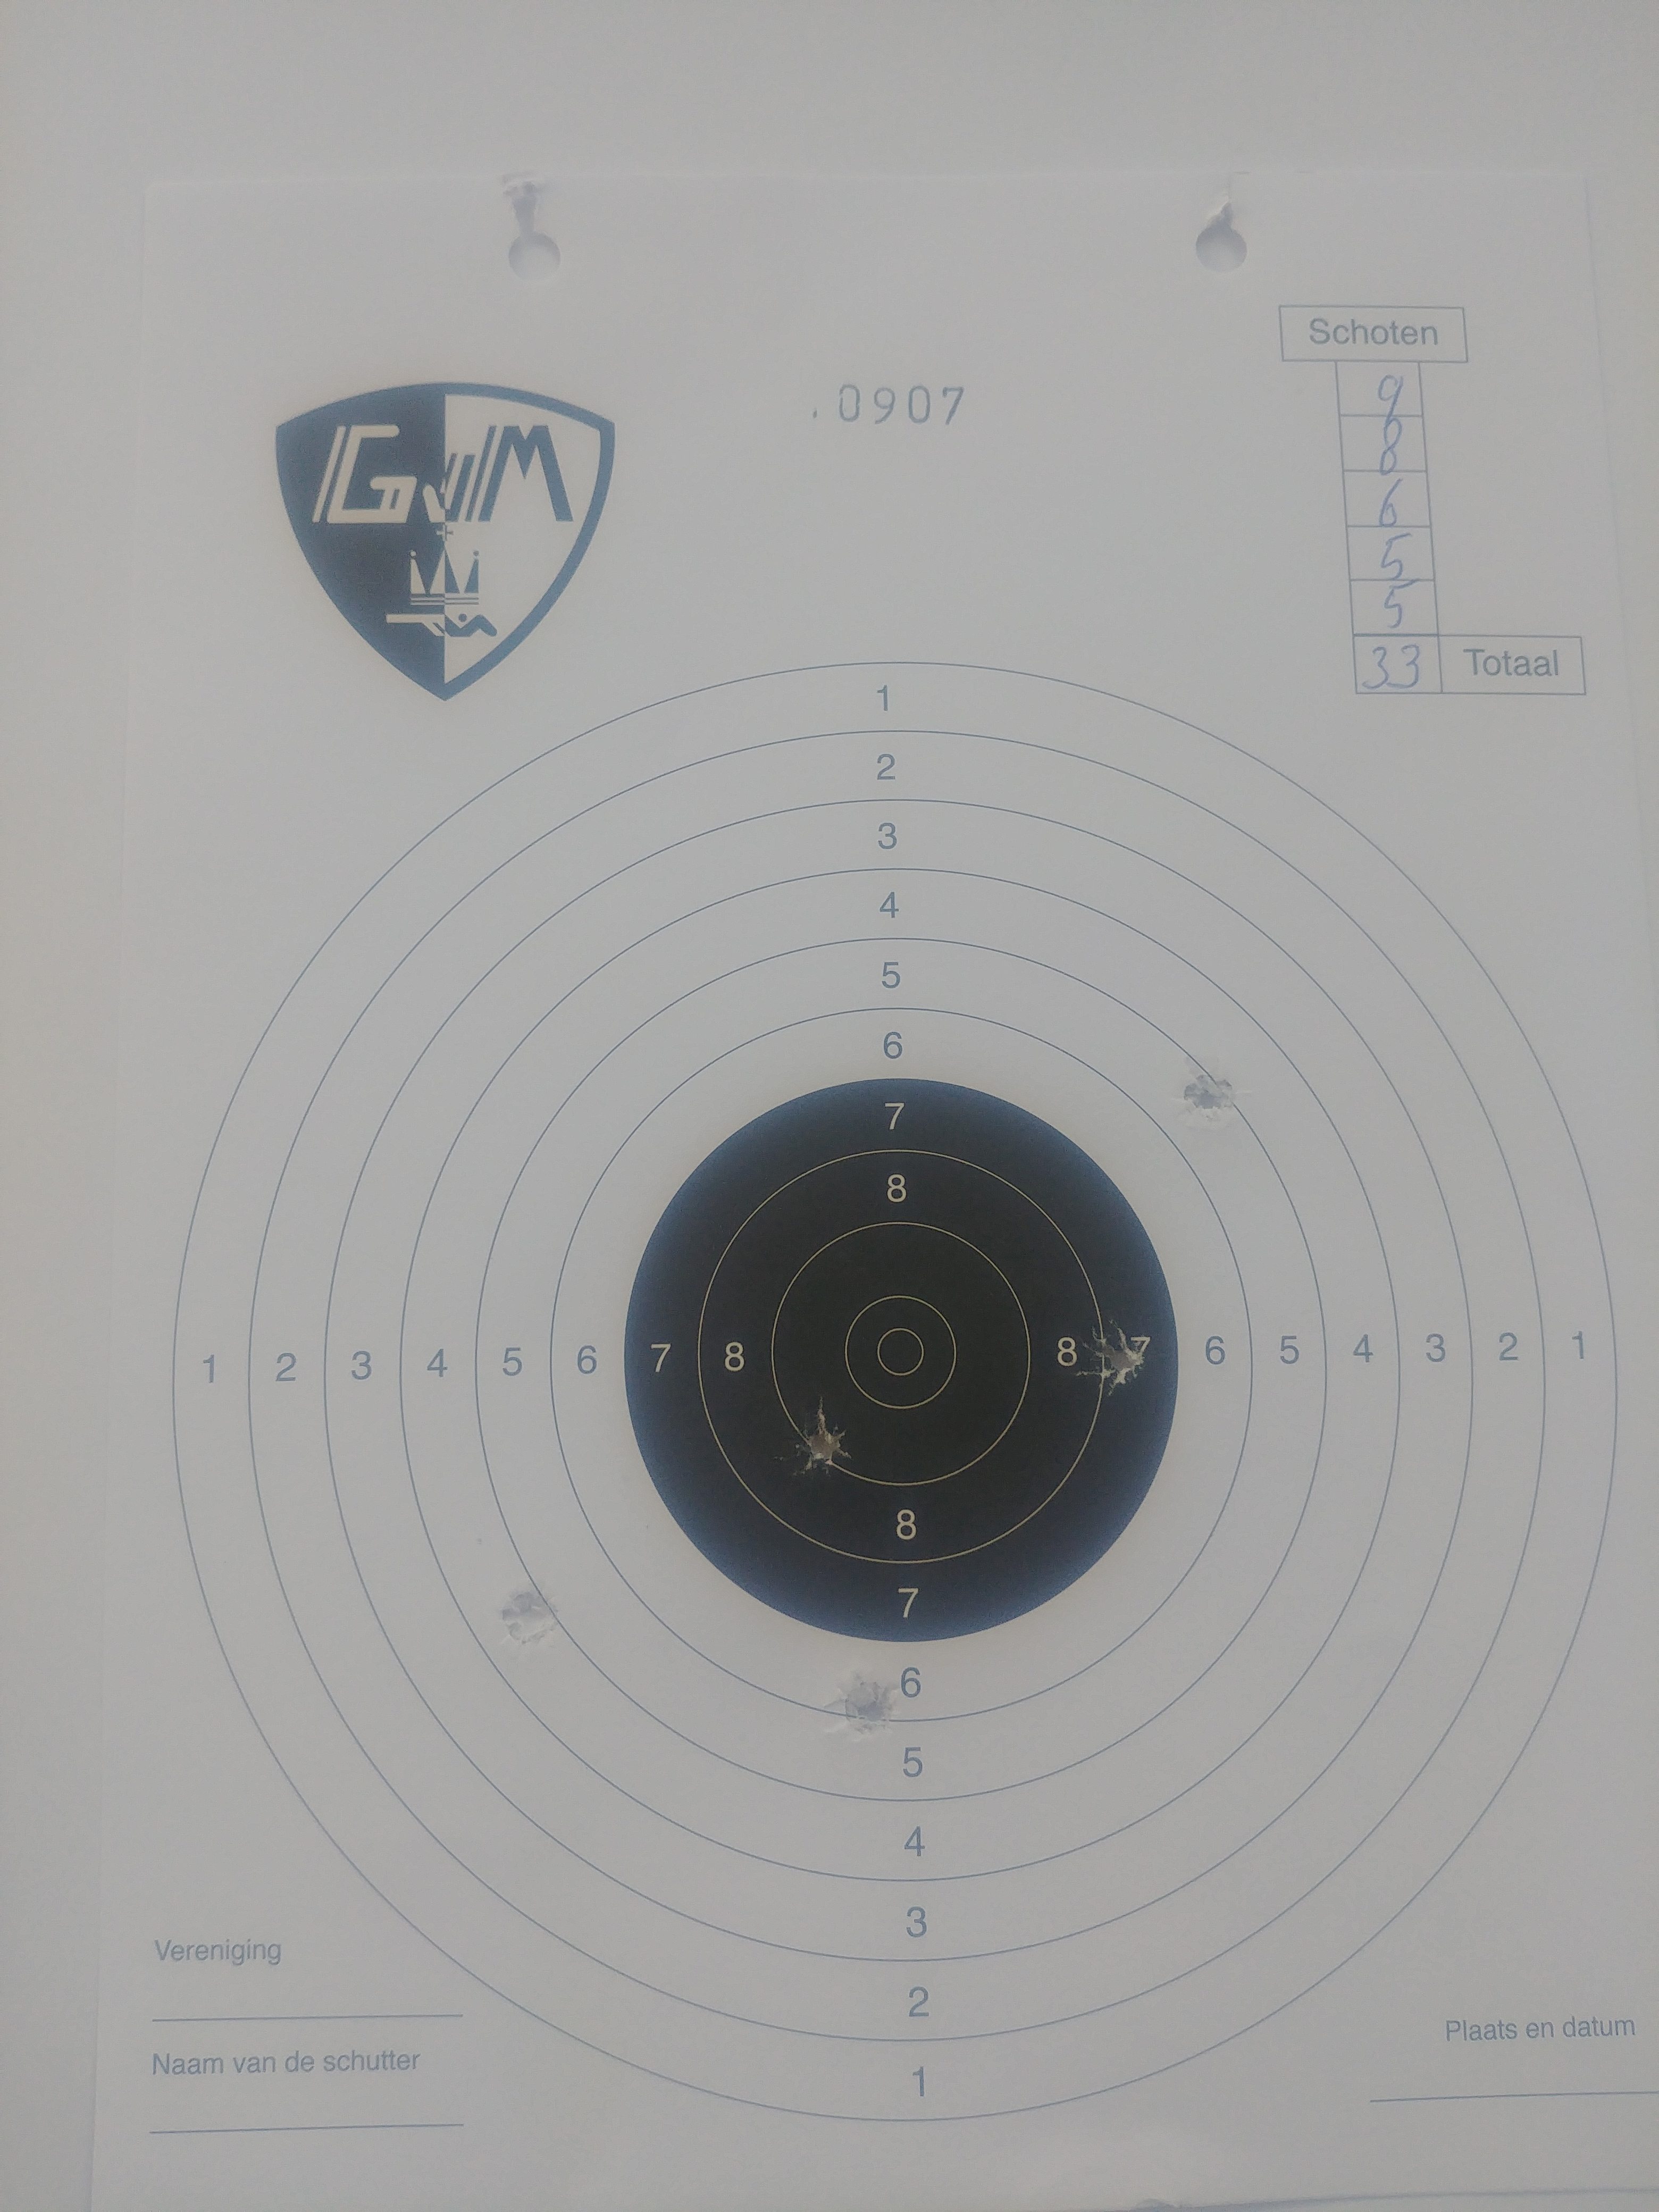center: (620, 1073, 1185, 1644)
out: (167, 662, 1622, 2123)
shot: (491, 1578, 563, 1653), (1084, 1320, 1154, 1395), (835, 1670, 901, 1745), (1176, 1061, 1243, 1127), (791, 1407, 850, 1475)
target: (843, 1292, 957, 1411)
